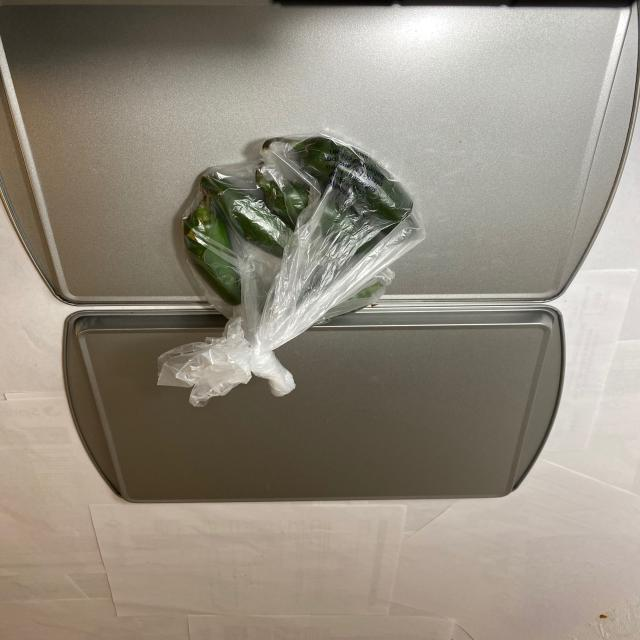chilli: (181, 130, 422, 308)
